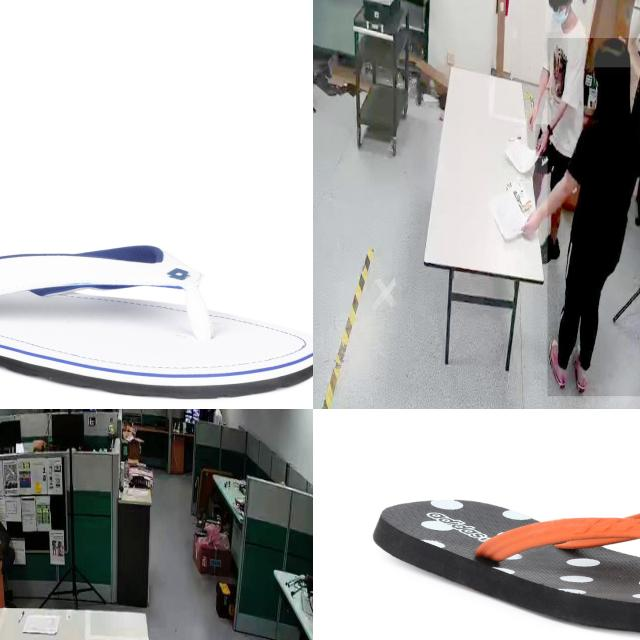Sandals: (0, 242, 313, 402), (370, 496, 640, 639)
face_mask: (545, 0, 573, 31)
hand_noglove: (521, 206, 541, 242), (536, 124, 550, 157), (526, 100, 538, 132)
head_nohelmet: (593, 38, 631, 68)
person: (547, 38, 640, 397), (522, 0, 577, 265)
shoes: (547, 331, 568, 393), (572, 336, 592, 401)
